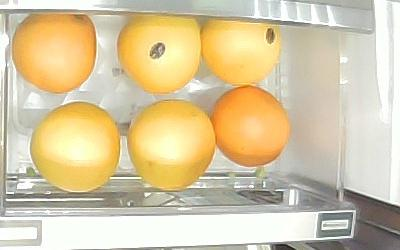grapefruit: (29, 101, 120, 193), (127, 99, 216, 190), (11, 11, 97, 94), (116, 13, 201, 93), (210, 84, 291, 167), (201, 17, 281, 85)
